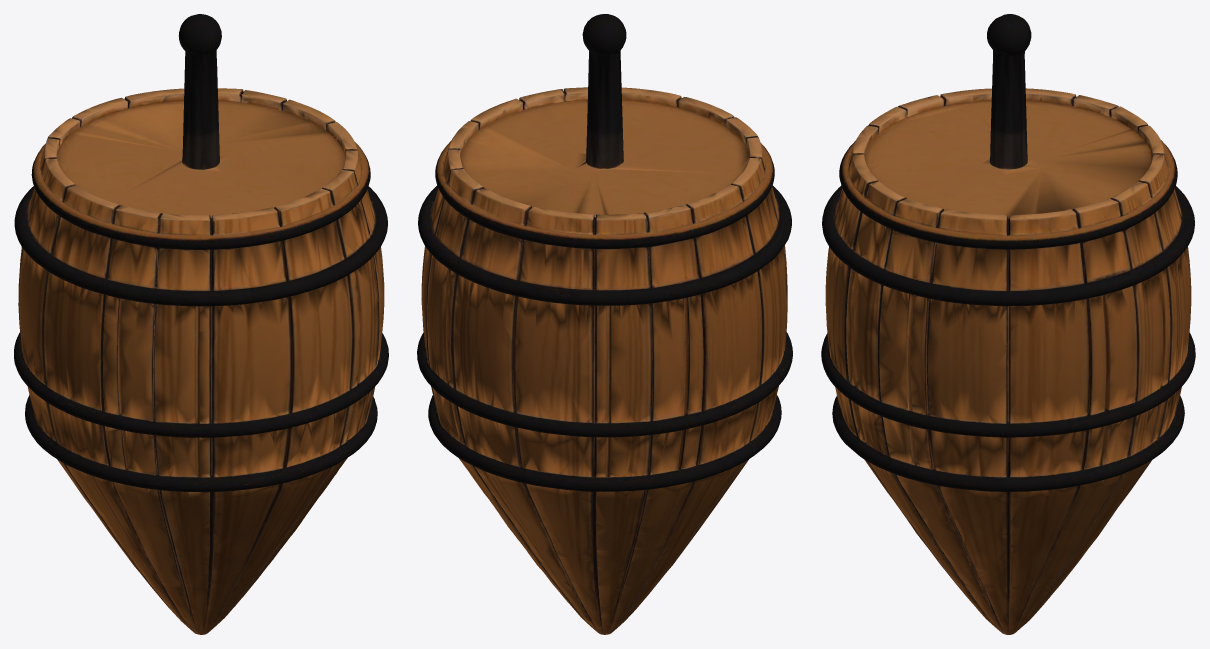
File: barrel-top.glb
3 views of the same model, side by side, from view 1: azimuth 30°, elevation 25°; view 2: azimuth 150°, elevation 25°; view 3: azimuth 270°, elevation 25° (orthographic).
Bounding box in the file's own units: 1.05 × 1.9 × 1.05.
1 material, 1 textured.
